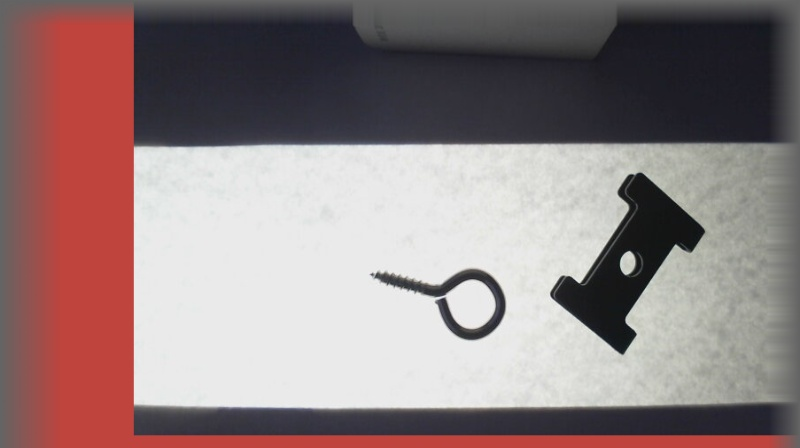O001: (367, 257, 507, 339)
O002: (550, 172, 708, 353)
